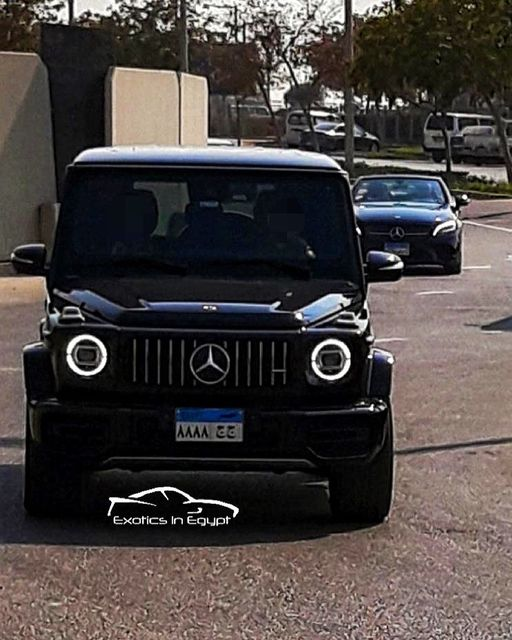carpl: (172, 411, 244, 441)
